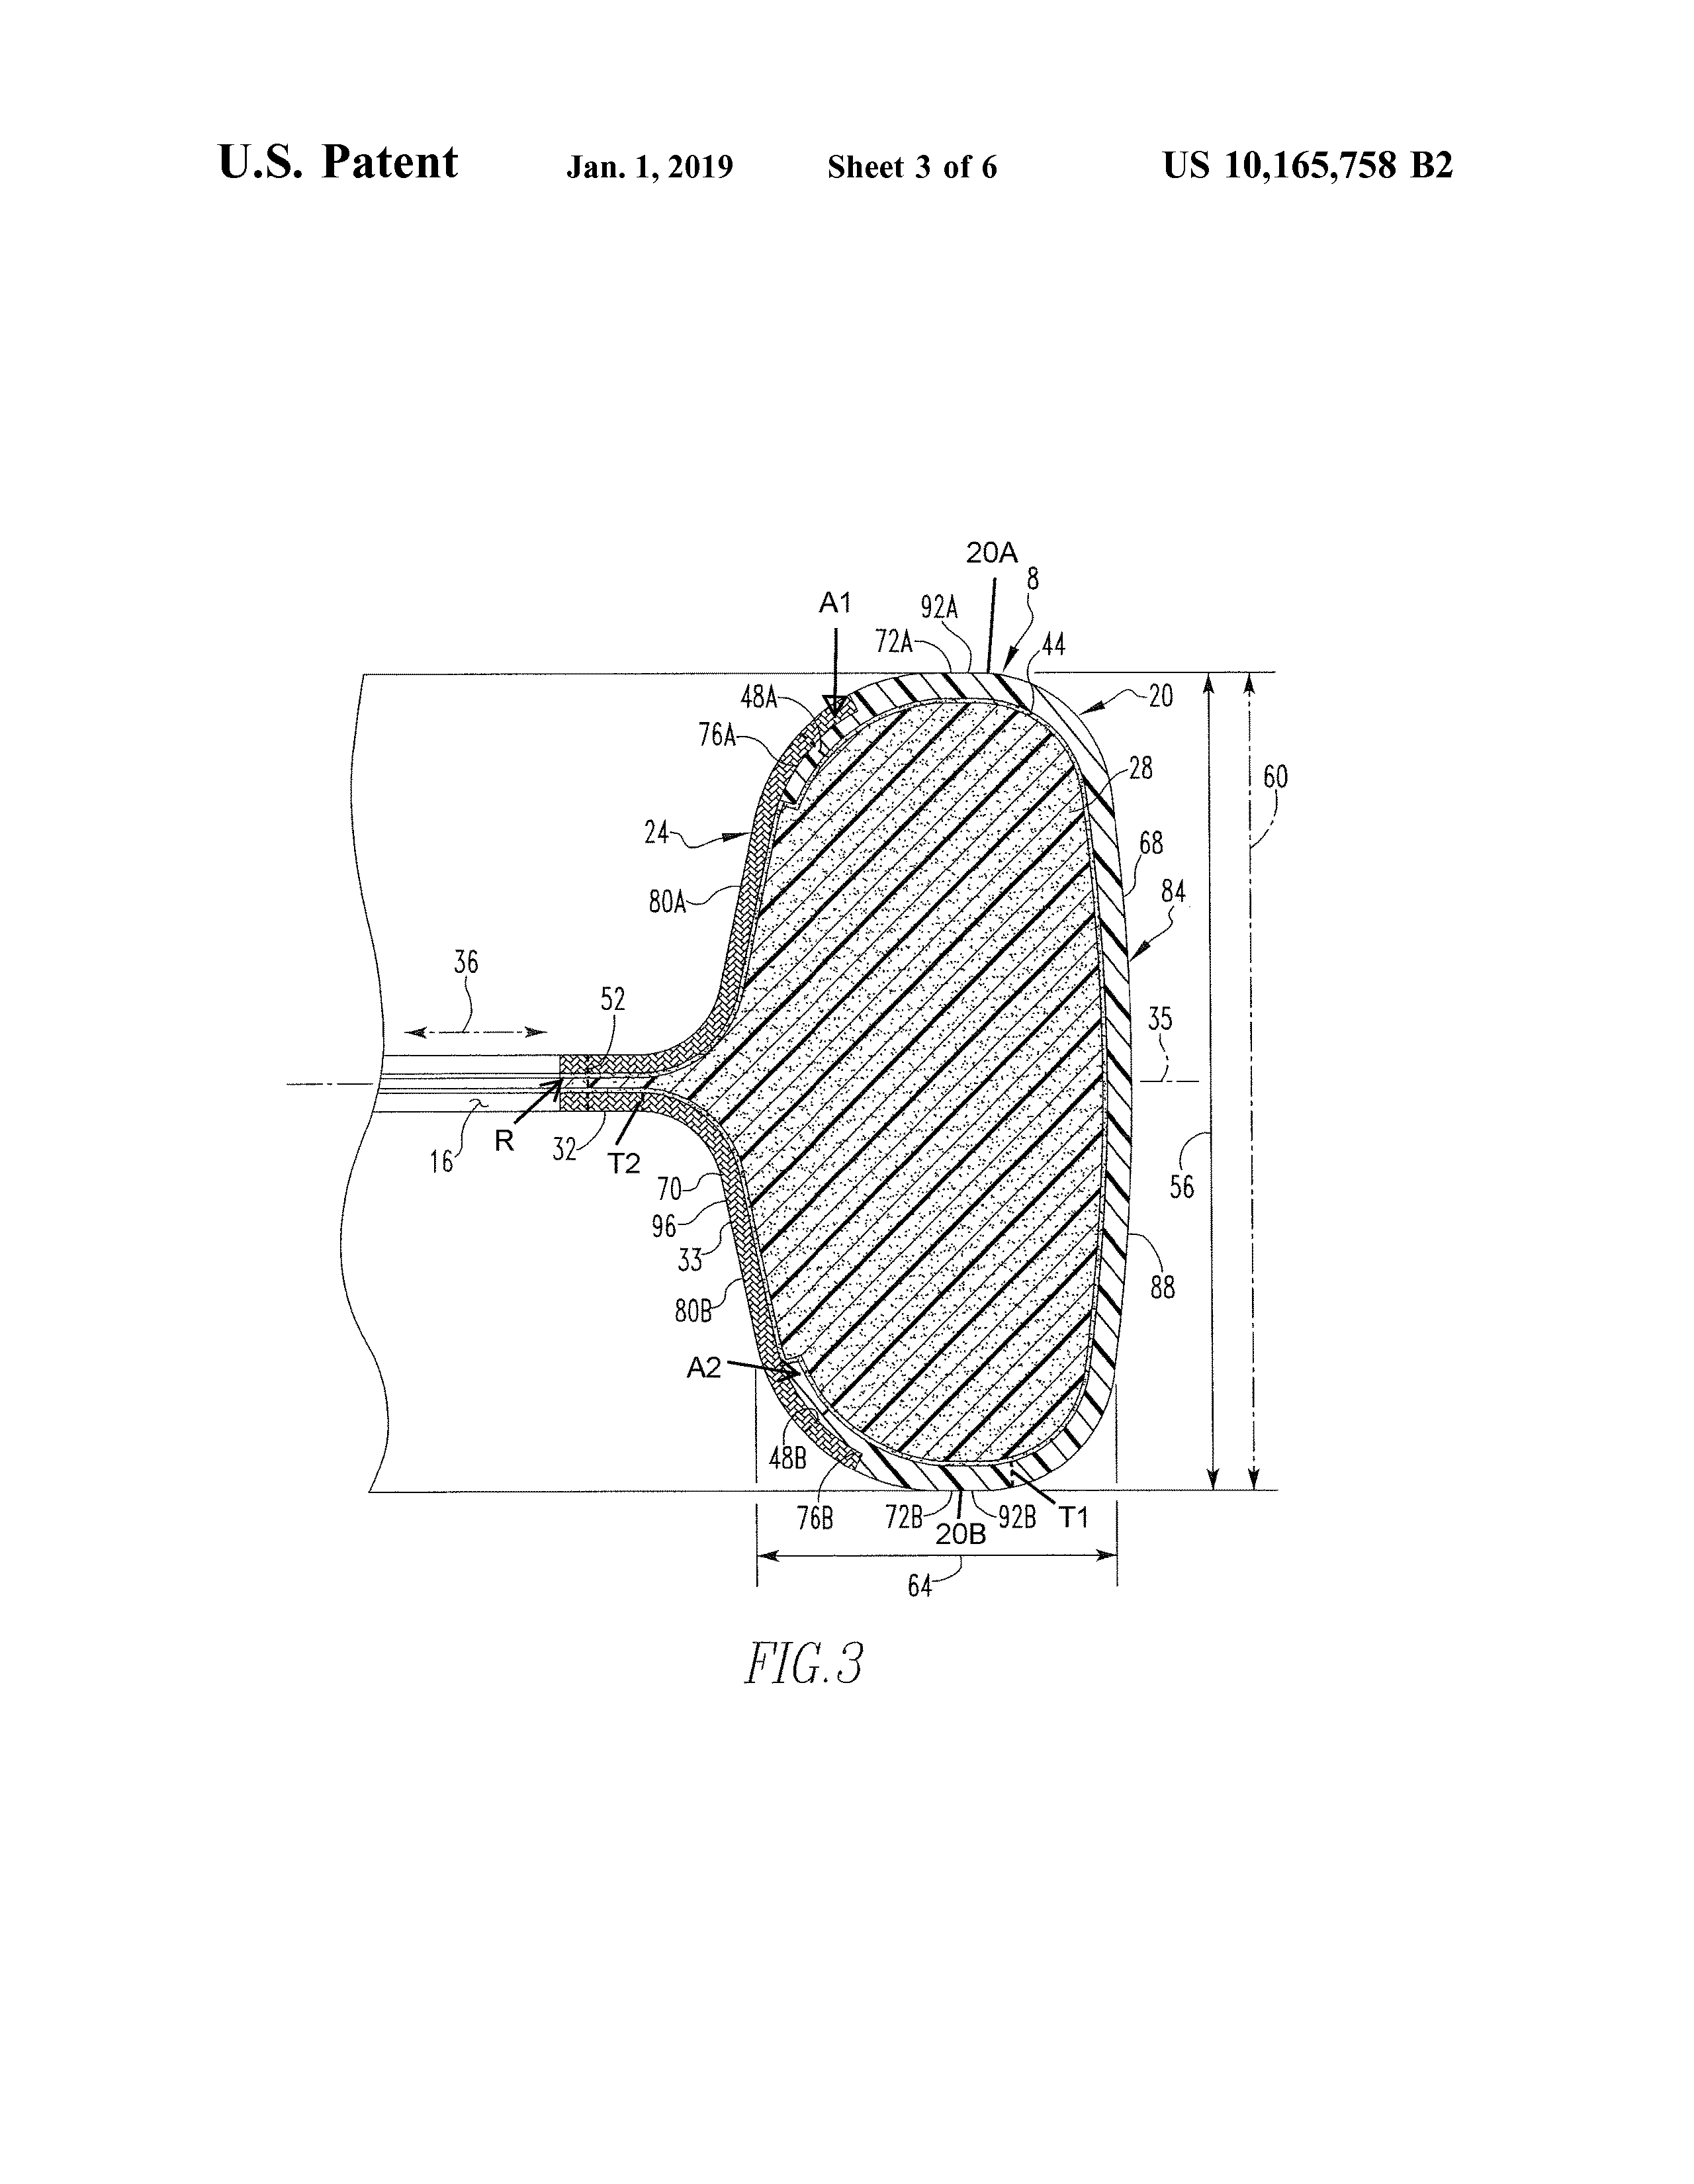patent image: (225, 527, 1345, 1773)
